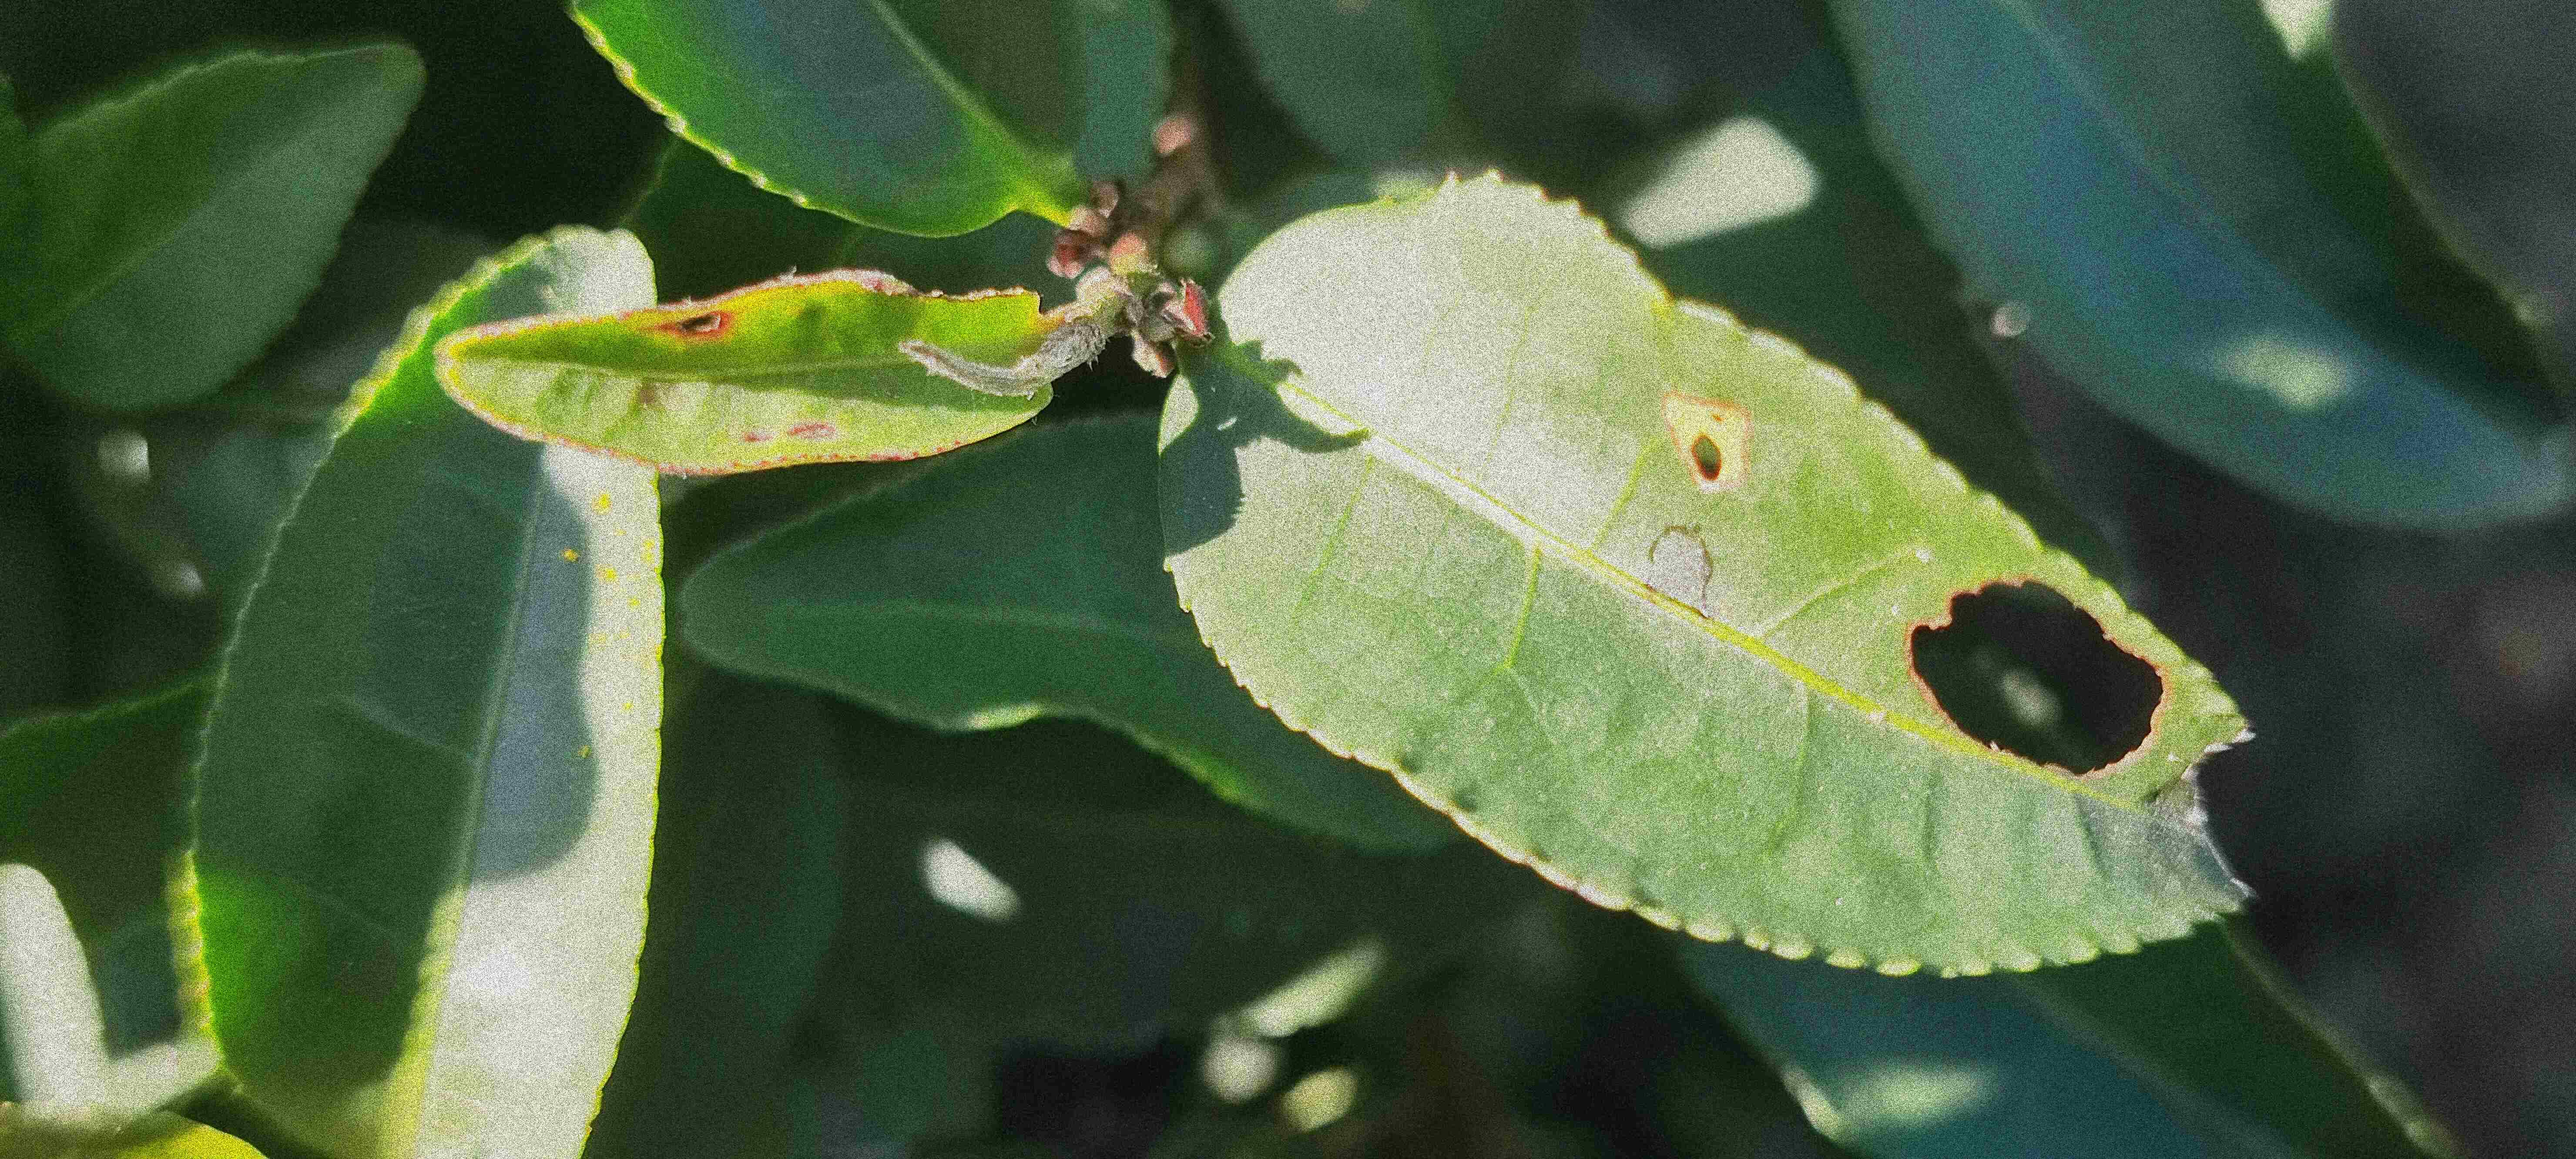chihuo_high: (1161, 171, 2264, 983)
healthy: (186, 218, 670, 1157), (16, 41, 435, 412)
tanju_low: (427, 266, 1073, 476)
